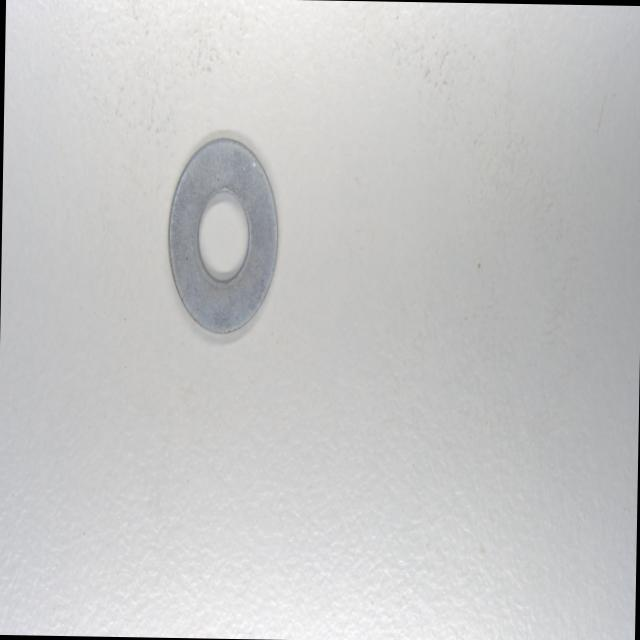washer: (165, 134, 280, 339)
